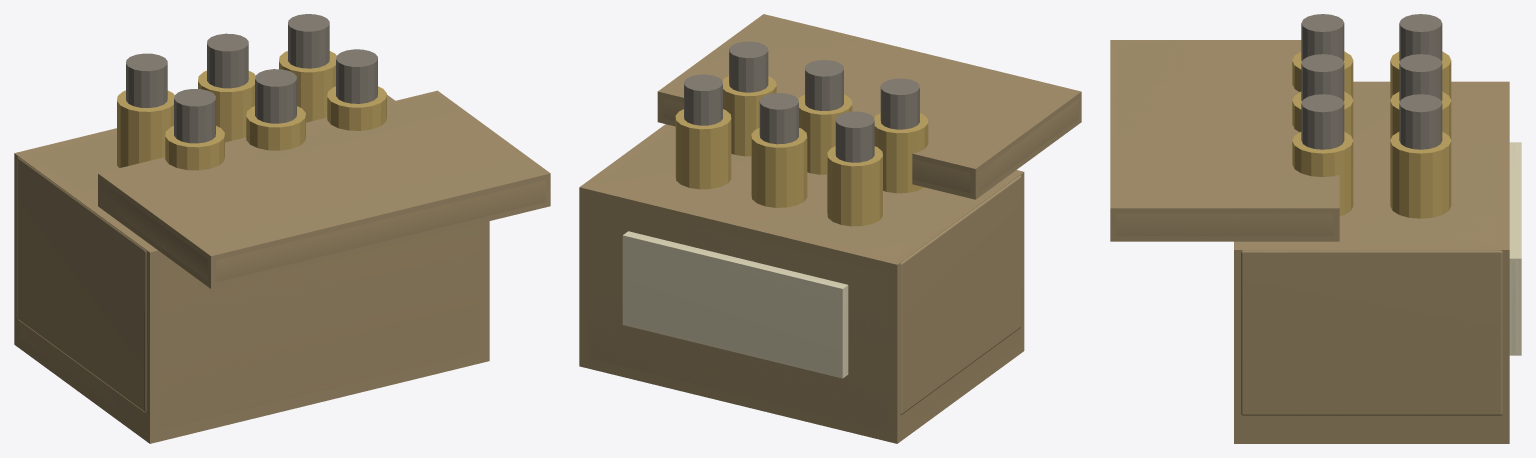
Rendered from AmmoBox.glb.
3 views of the same model, side by side, from view 1: azimuth 30°, elevation 25°; view 2: azimuth 150°, elevation 25°; view 3: azimuth 270°, elevation 25° (orthographic). The views are drawn at different scales.
Parts seen in each view (by area): view 1: LOD0_AmmoCard, LOD1_AmmoCard, LOD0_AmmoBrass, LOD0_AmmoLead, LOD1_AmmoLead, LOD1_AmmoBrass; view 2: LOD0_AmmoCard, LOD1_AmmoCard, LOD0_GearMark, LOD0_AmmoBrass, LOD0_AmmoLead, LOD1_GearMark, LOD1_AmmoLead, LOD1_AmmoBrass; view 3: LOD0_AmmoCard, LOD1_AmmoCard, LOD0_AmmoLead, LOD0_AmmoBrass, LOD1_GearMark, LOD1_AmmoLead, LOD0_GearMark.
Part boxes in pixels (x1=…): LOD0_AmmoCard: x1=17, y1=94, x2=545, y2=430; LOD1_AmmoCard: x1=14, y1=90, x2=550, y2=443; LOD0_AmmoBrass: x1=117, y1=51, x2=386, y2=170; LOD0_AmmoLead: x1=126, y1=14, x2=377, y2=143; LOD1_AmmoLead: x1=126, y1=14, x2=328, y2=70; LOD1_AmmoBrass: x1=118, y1=52, x2=335, y2=111; LOD0_AmmoCard: x1=589, y1=17, x2=1078, y2=430; LOD1_AmmoCard: x1=579, y1=14, x2=1081, y2=443; LOD0_GearMark: x1=625, y1=233, x2=846, y2=375; LOD0_AmmoBrass: x1=675, y1=76, x2=928, y2=226; LOD0_AmmoLead: x1=684, y1=41, x2=919, y2=162; LOD1_GearMark: x1=622, y1=231, x2=848, y2=378; LOD1_AmmoLead: x1=685, y1=75, x2=873, y2=127; LOD1_AmmoBrass: x1=676, y1=111, x2=881, y2=165; LOD0_AmmoCard: x1=1116, y1=42, x2=1502, y2=432; LOD1_AmmoCard: x1=1110, y1=40, x2=1509, y2=443; LOD0_AmmoLead: x1=1301, y1=14, x2=1442, y2=149; LOD0_AmmoBrass: x1=1292, y1=51, x2=1451, y2=218; LOD1_GearMark: x1=1509, y1=142, x2=1521, y2=355; LOD1_AmmoLead: x1=1400, y1=14, x2=1441, y2=111; LOD0_GearMark: x1=1512, y1=143, x2=1518, y2=352.
Bounding box in the file's own units: 0.131 × 0.107 × 0.1345.
